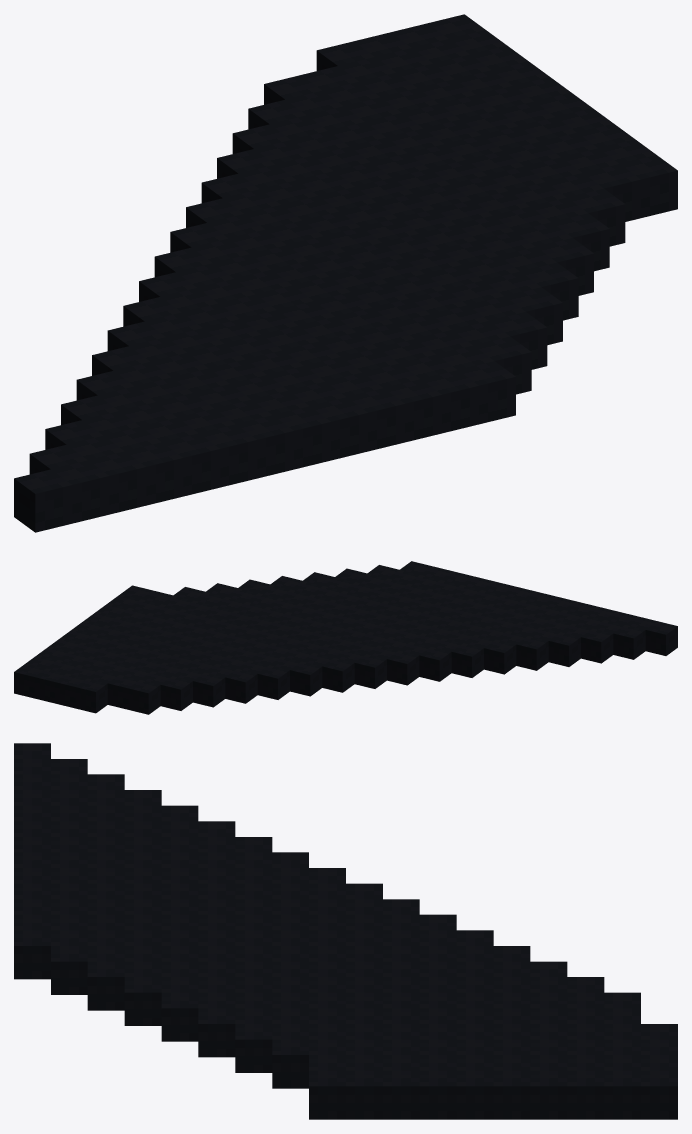
Rendered from CurvaV3.fbx.
The picture shows the model from 3 angles, top to bottom: view 1: azimuth 30°, elevation 25°; view 2: azimuth 150°, elevation 25°; view 3: azimuth 270°, elevation 25°; orthographic projection. The views are drawn at different scales.
Visible parts, largest first — view 1: Curva V 3; view 2: Curva V 3; view 3: Curva V 3.
Boxes of the visible parts, box(x1,y1,x2,y2) form: Curva V 3: box(14, 14, 677, 532); Curva V 3: box(14, 561, 677, 714); Curva V 3: box(14, 743, 677, 1119).
Size of the model in its own units: 2200 by 100 by 1800.
Materials: 1 (1 with a texture image).
